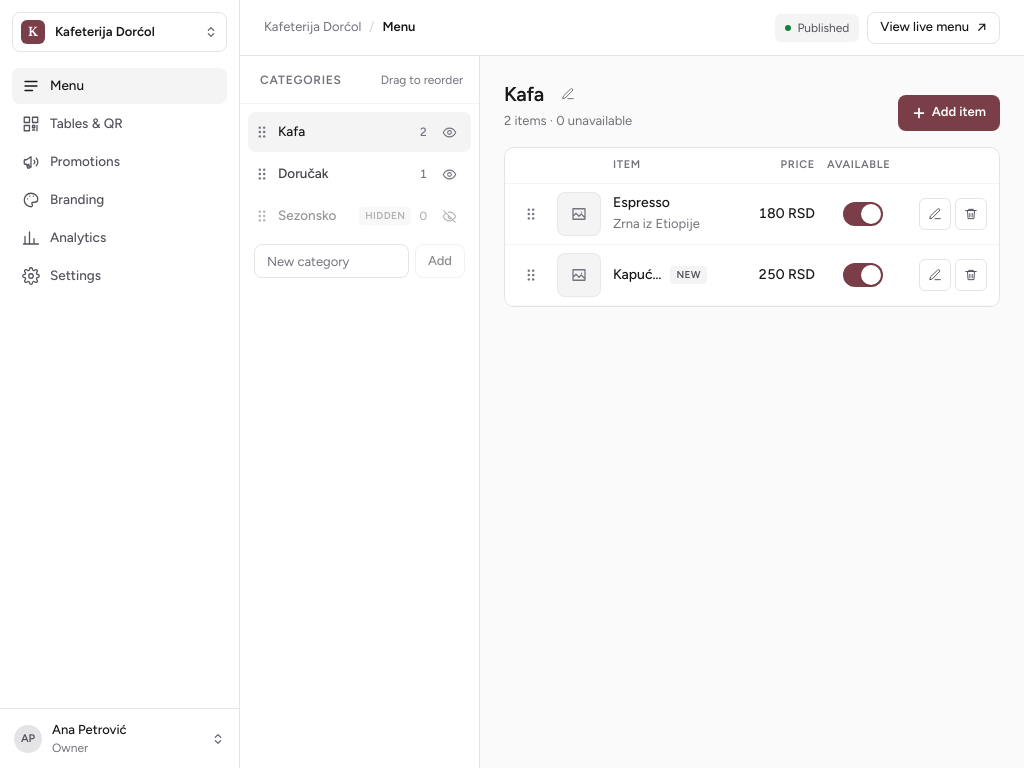
Test: item drawer › asks before discarding unsaved changes
The image size is (1024, 768).
Click the button "Add item": (949, 113) [898, 95, 1000, 131]
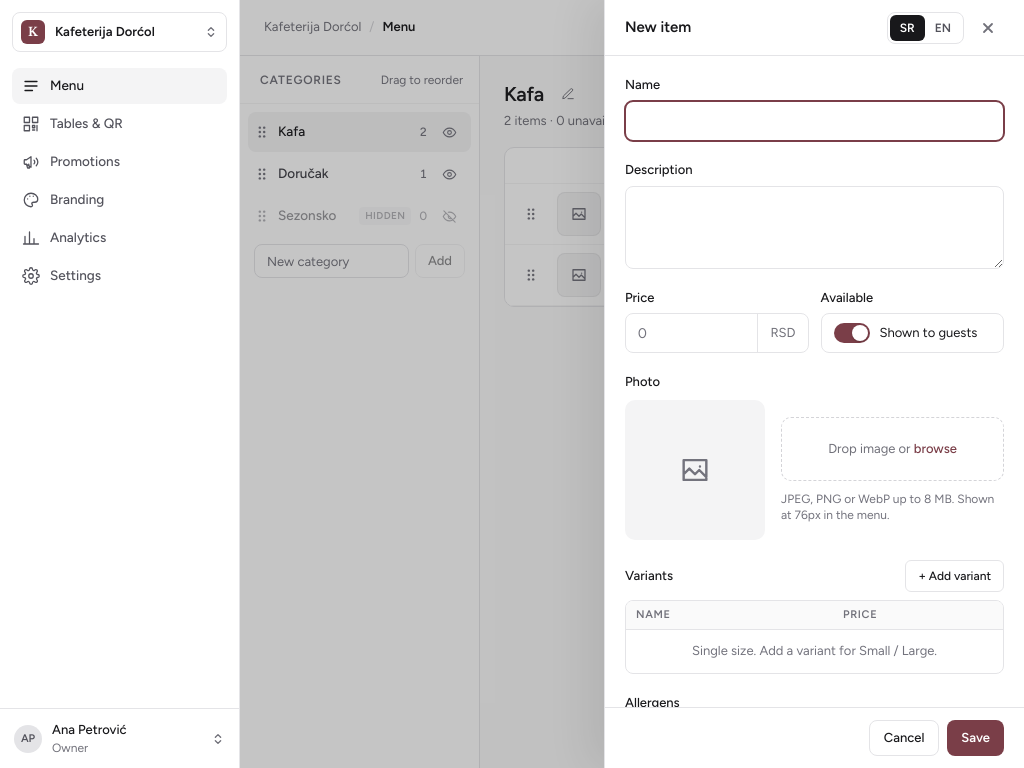
In the field labelled "Name": (814, 121) [625, 101, 1004, 141], type "Draft"
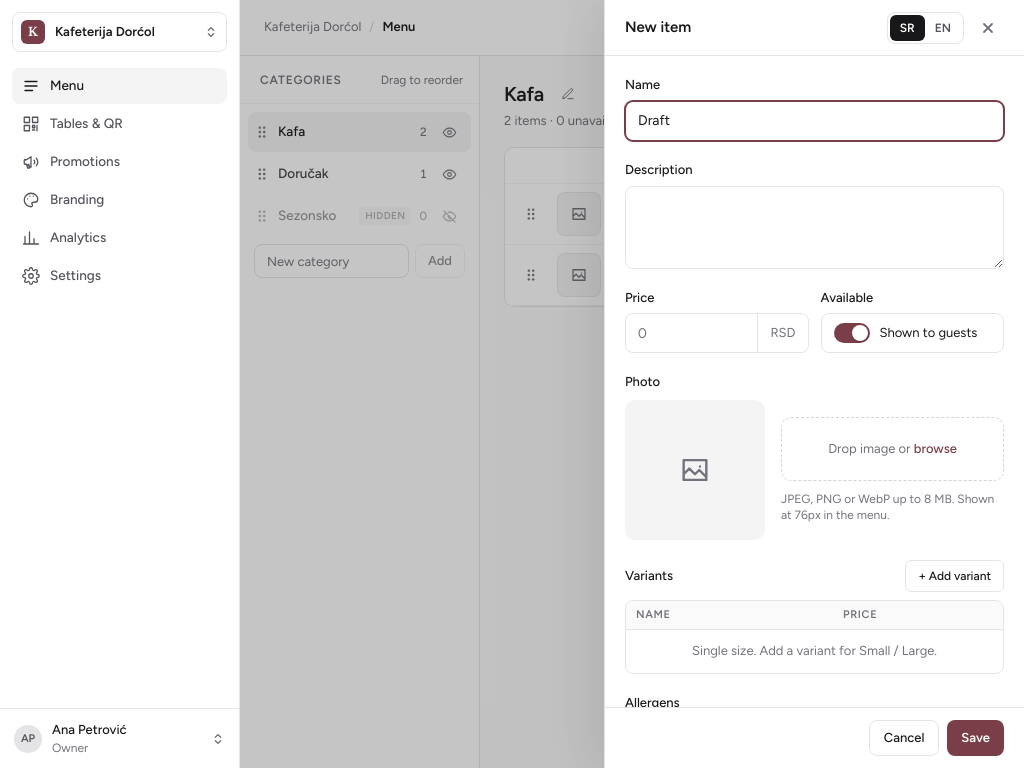
Click the button "Cancel": (904, 738) [869, 720, 939, 756]
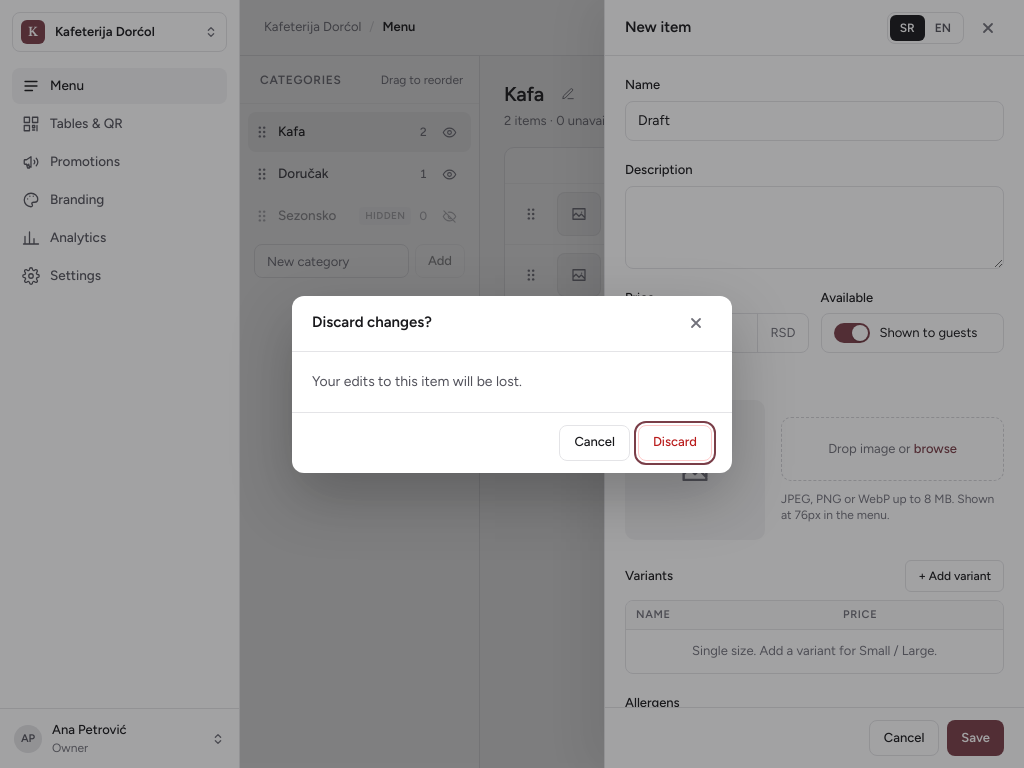
Click the button "Discard": (675, 442) [638, 424, 712, 460]
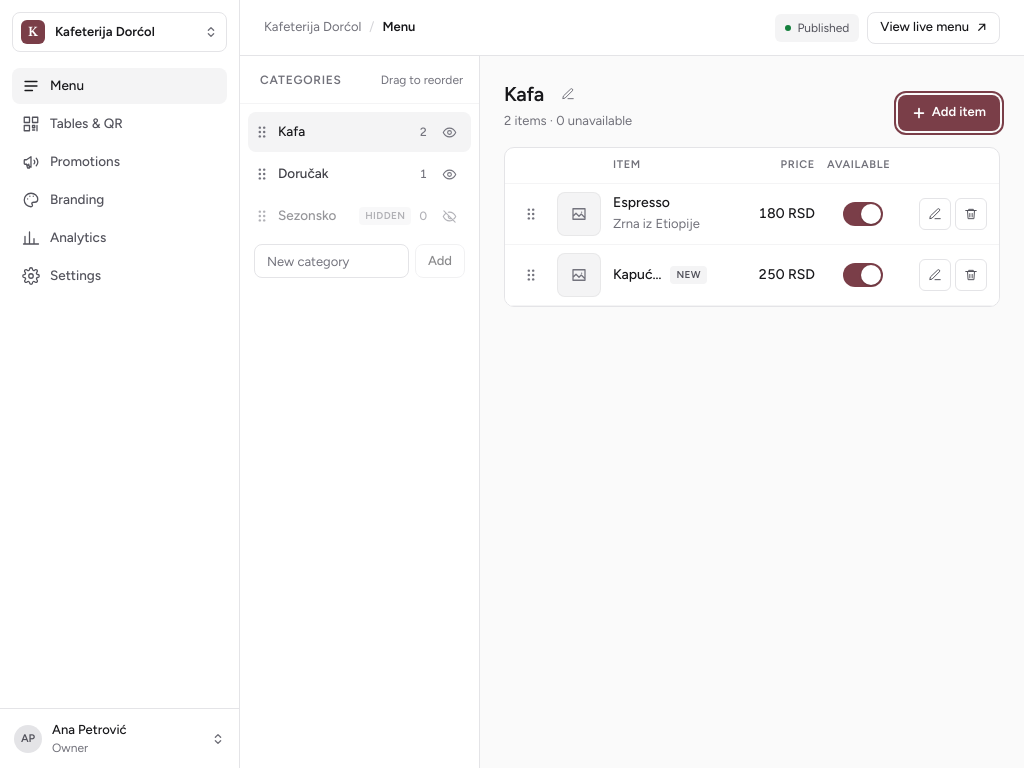
Result: the heading "New item" is gone
